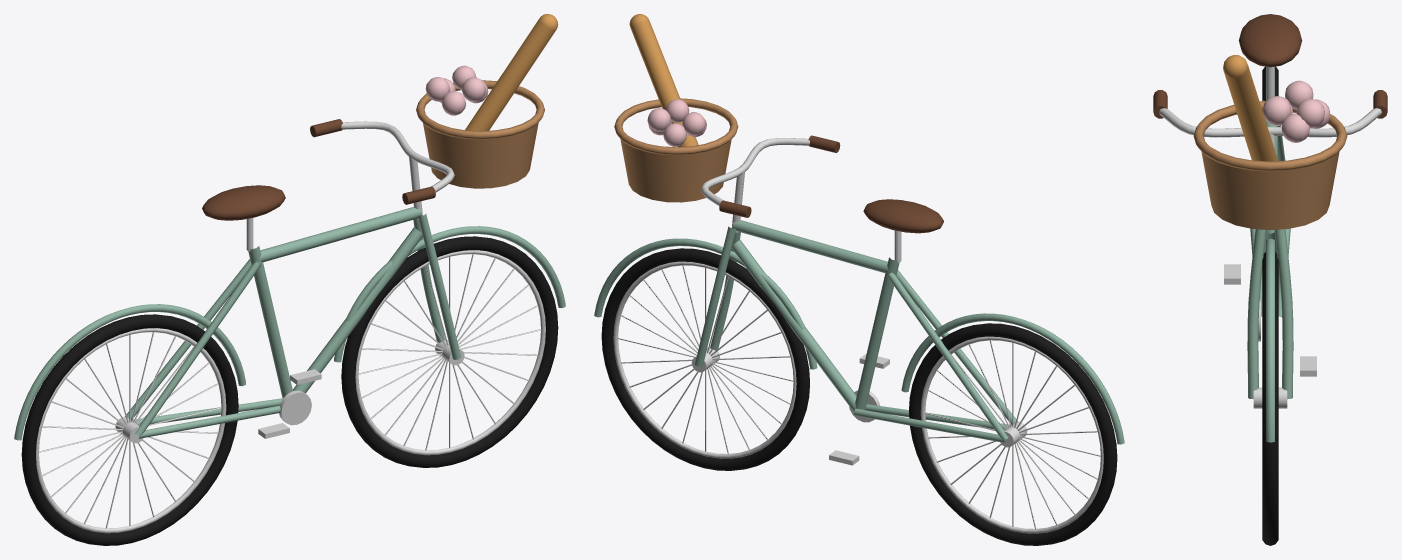
The model's file is bicycle.glb.
The picture shows the model from 3 angles, left to right: view 1: azimuth 30°, elevation 25°; view 2: azimuth 150°, elevation 25°; view 3: azimuth 270°, elevation 25°; orthographic projection. The views are drawn at different scales.
Parts seen in each view (by area): view 1: Bicycle_BikeFrame, Bicycle_BikeChrome, Bicycle_BikeTire, Bicycle_BikeWicker, Bicycle_BikeLeather, Bicycle_Baguette, Bicycle_BikeFlowers; view 2: Bicycle_BikeFrame, Bicycle_BikeTire, Bicycle_BikeChrome, Bicycle_BikeWicker, Bicycle_BikeLeather, Bicycle_Baguette, Bicycle_BikeFlowers; view 3: Bicycle_BikeWicker, Bicycle_BikeFrame, Bicycle_BikeTire, Bicycle_BikeLeather, Bicycle_BikeChrome, Bicycle_Baguette, Bicycle_BikeFlowers.
Part boxes in pixels (box(x1,y1,x2,y2)): Bicycle_BikeFrame: box(14, 207, 565, 440); Bicycle_BikeChrome: box(36, 121, 545, 533); Bicycle_BikeTire: box(21, 236, 558, 545); Bicycle_BikeWicker: box(416, 80, 544, 188); Bicycle_BikeLeather: box(202, 119, 435, 220); Bicycle_Baguette: box(465, 14, 558, 131); Bicycle_BikeFlowers: box(425, 65, 488, 115); Bicycle_BikeFrame: box(594, 220, 1124, 444); Bicycle_BikeTire: box(601, 248, 1117, 545); Bicycle_BikeChrome: box(613, 138, 1103, 533); Bicycle_BikeWicker: box(614, 98, 738, 202); Bicycle_BikeLeather: box(719, 135, 943, 233); Bicycle_Baguette: box(629, 14, 698, 146); Bicycle_BikeFlowers: box(647, 99, 706, 146); Bicycle_BikeWicker: box(1193, 101, 1347, 229); Bicycle_BikeFrame: box(1247, 67, 1293, 442); Bicycle_BikeTire: box(1262, 66, 1278, 545); Bicycle_BikeLeather: box(1153, 14, 1387, 118); Bicycle_BikeChrome: box(1159, 67, 1381, 408); Bicycle_Baguette: box(1223, 55, 1278, 161); Bicycle_BikeFlowers: box(1263, 80, 1329, 142).
Bounding box in the file's own units: 1.79 × 1.37 × 0.554.
